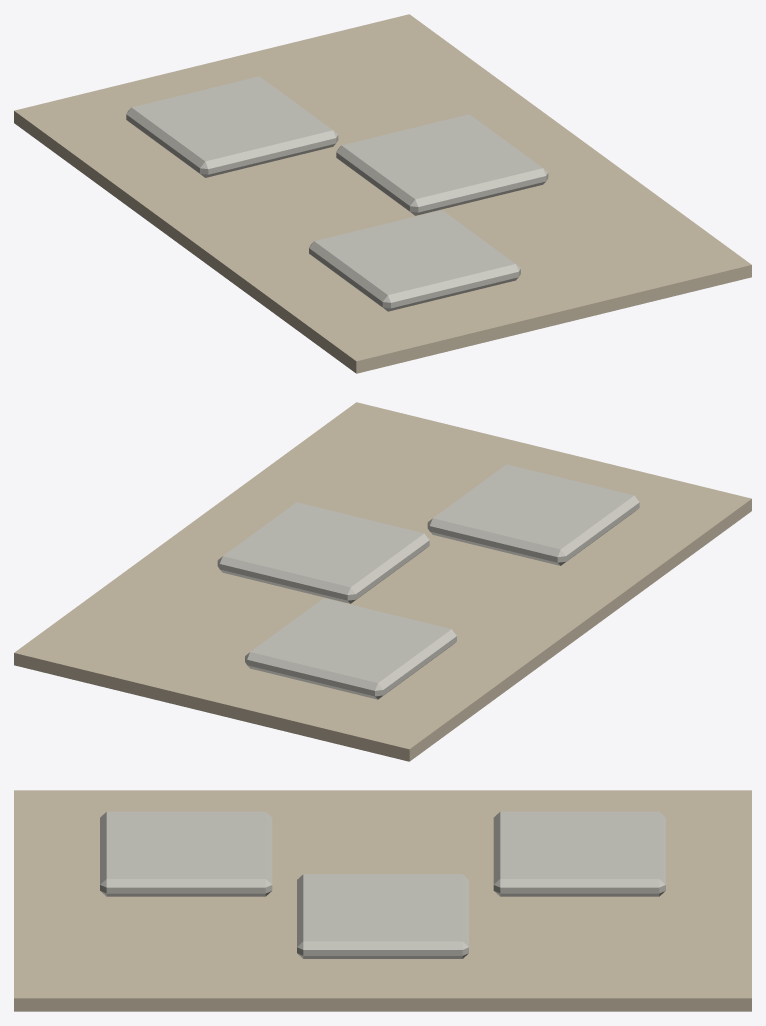
The model's file is garden-footpath.glb.
3 views of the same model, one above another, from view 1: azimuth 30°, elevation 25°; view 2: azimuth 150°, elevation 25°; view 3: azimuth 270°, elevation 25° (orthographic). The views are drawn at different scales.
Parts seen in each view (by area): view 1: garden-footpath; view 2: garden-footpath; view 3: garden-footpath.
Boxes of the visible parts, box(x1,y1,x2,y2) form: garden-footpath: box(14, 14, 751, 373); garden-footpath: box(14, 402, 751, 761); garden-footpath: box(14, 790, 751, 1011).
Size of the model in its own units: 2 by 0.14 by 3.
